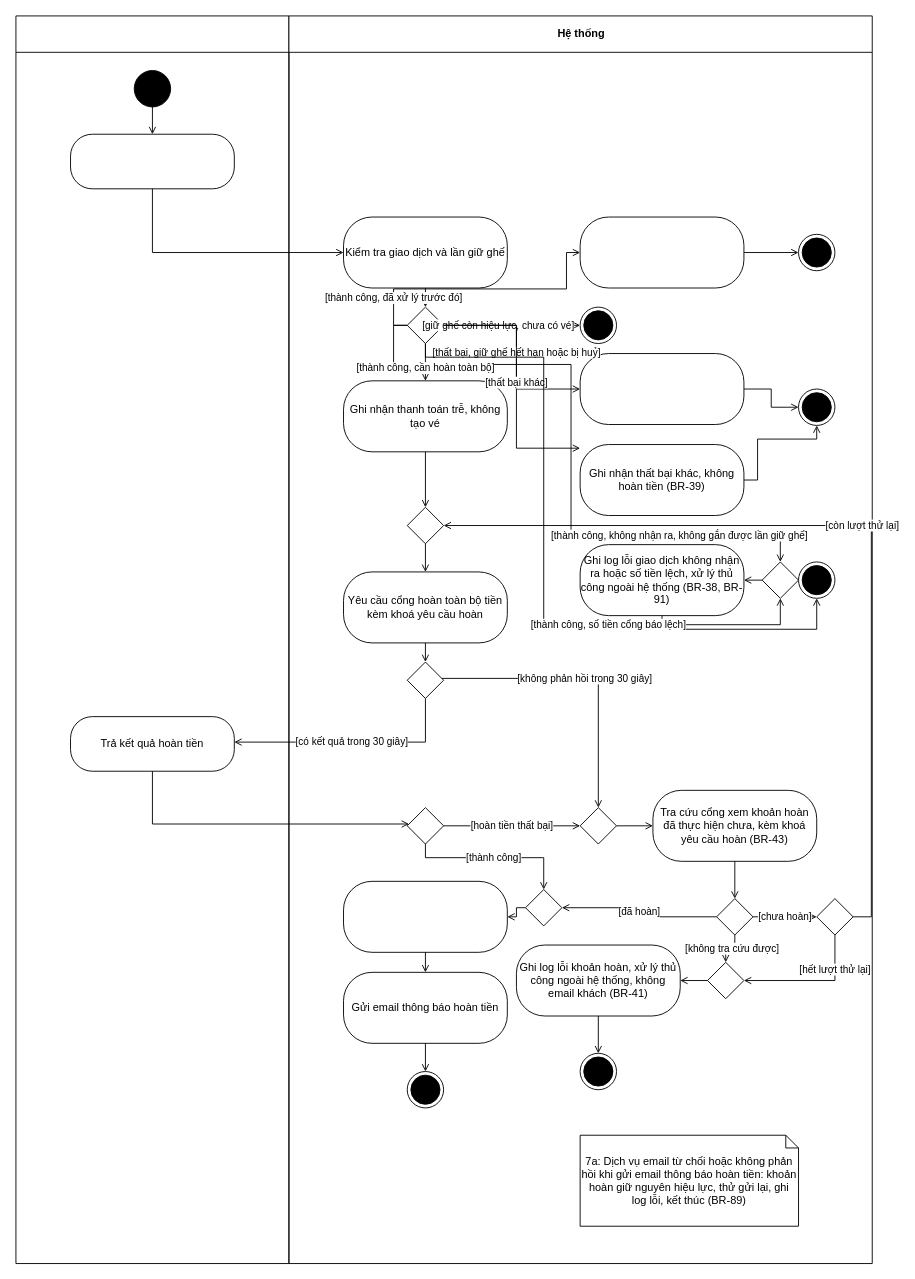
Some shapes in this 915 by 1279 pixel diagram are drawn without their labels. Here are the shapes that lost their labels. From the top down, the box of each, then its label:
(70, 133, 234, 189): Báo kết quả giao dịch thanh toán
(579, 216, 744, 288): Ghi nhận lần báo trùng, không hoàn tiền lần nữa (BR-37)
(579, 353, 744, 425): Ghi nhận thất bại báo muộn, không hoàn tiền (BR-39)
(15, 15, 289, 1264): Cổng thanh toán
(343, 880, 507, 952): Ghi nhận giao dịch đã hoàn tiền
